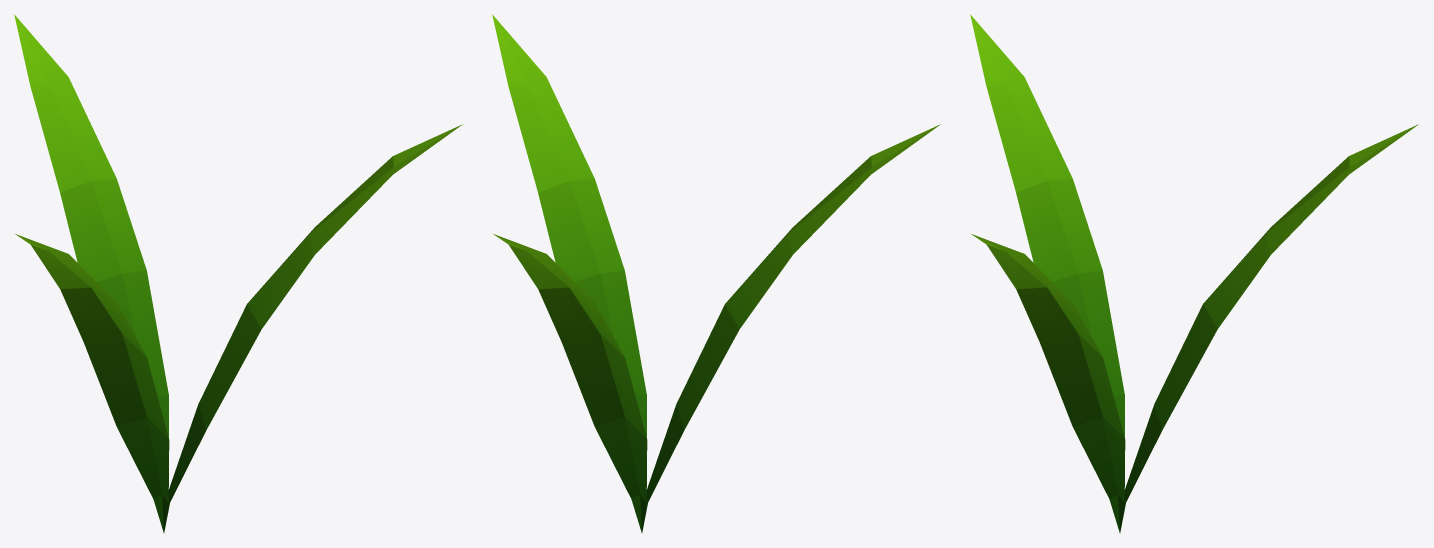
The model's file is grass_6.fbx.
3 renders of one model, left to right at view 1: azimuth 30°, elevation 25°; view 2: azimuth 150°, elevation 25°; view 3: azimuth 270°, elevation 25°, orthographic.
Parts seen in each view (by area): view 1: grass_6; view 2: grass_6; view 3: grass_6.
Boxes of the visible parts, bbox=[...] form: grass_6: bbox=[14, 14, 462, 532]; grass_6: bbox=[492, 14, 940, 532]; grass_6: bbox=[970, 14, 1418, 532].
Size of the model in its own units: 0.5637 by 0.4914 by 0.4882.
